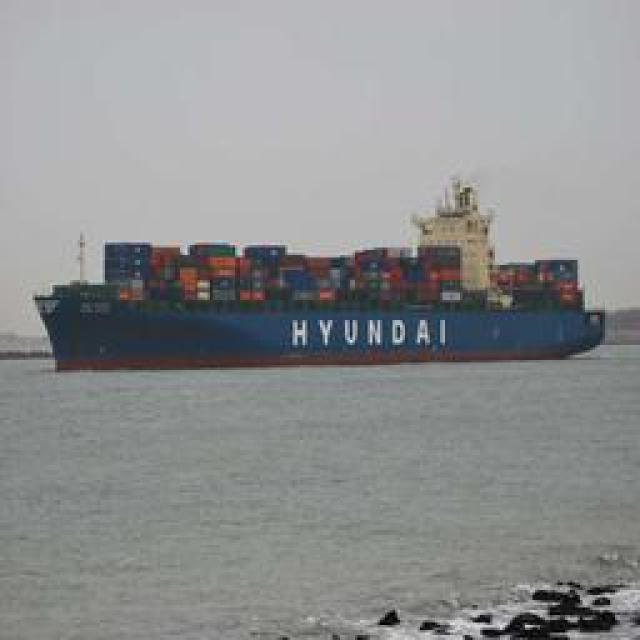Ship: (29, 223, 609, 371)
